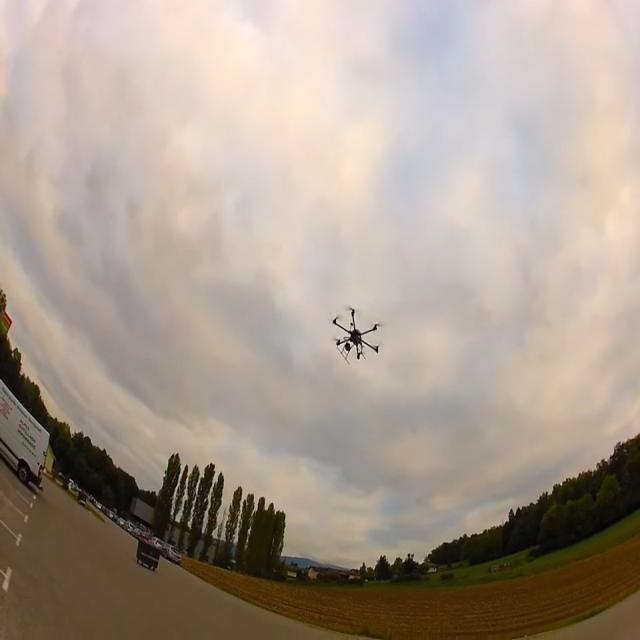drone: (332, 306, 382, 364)
